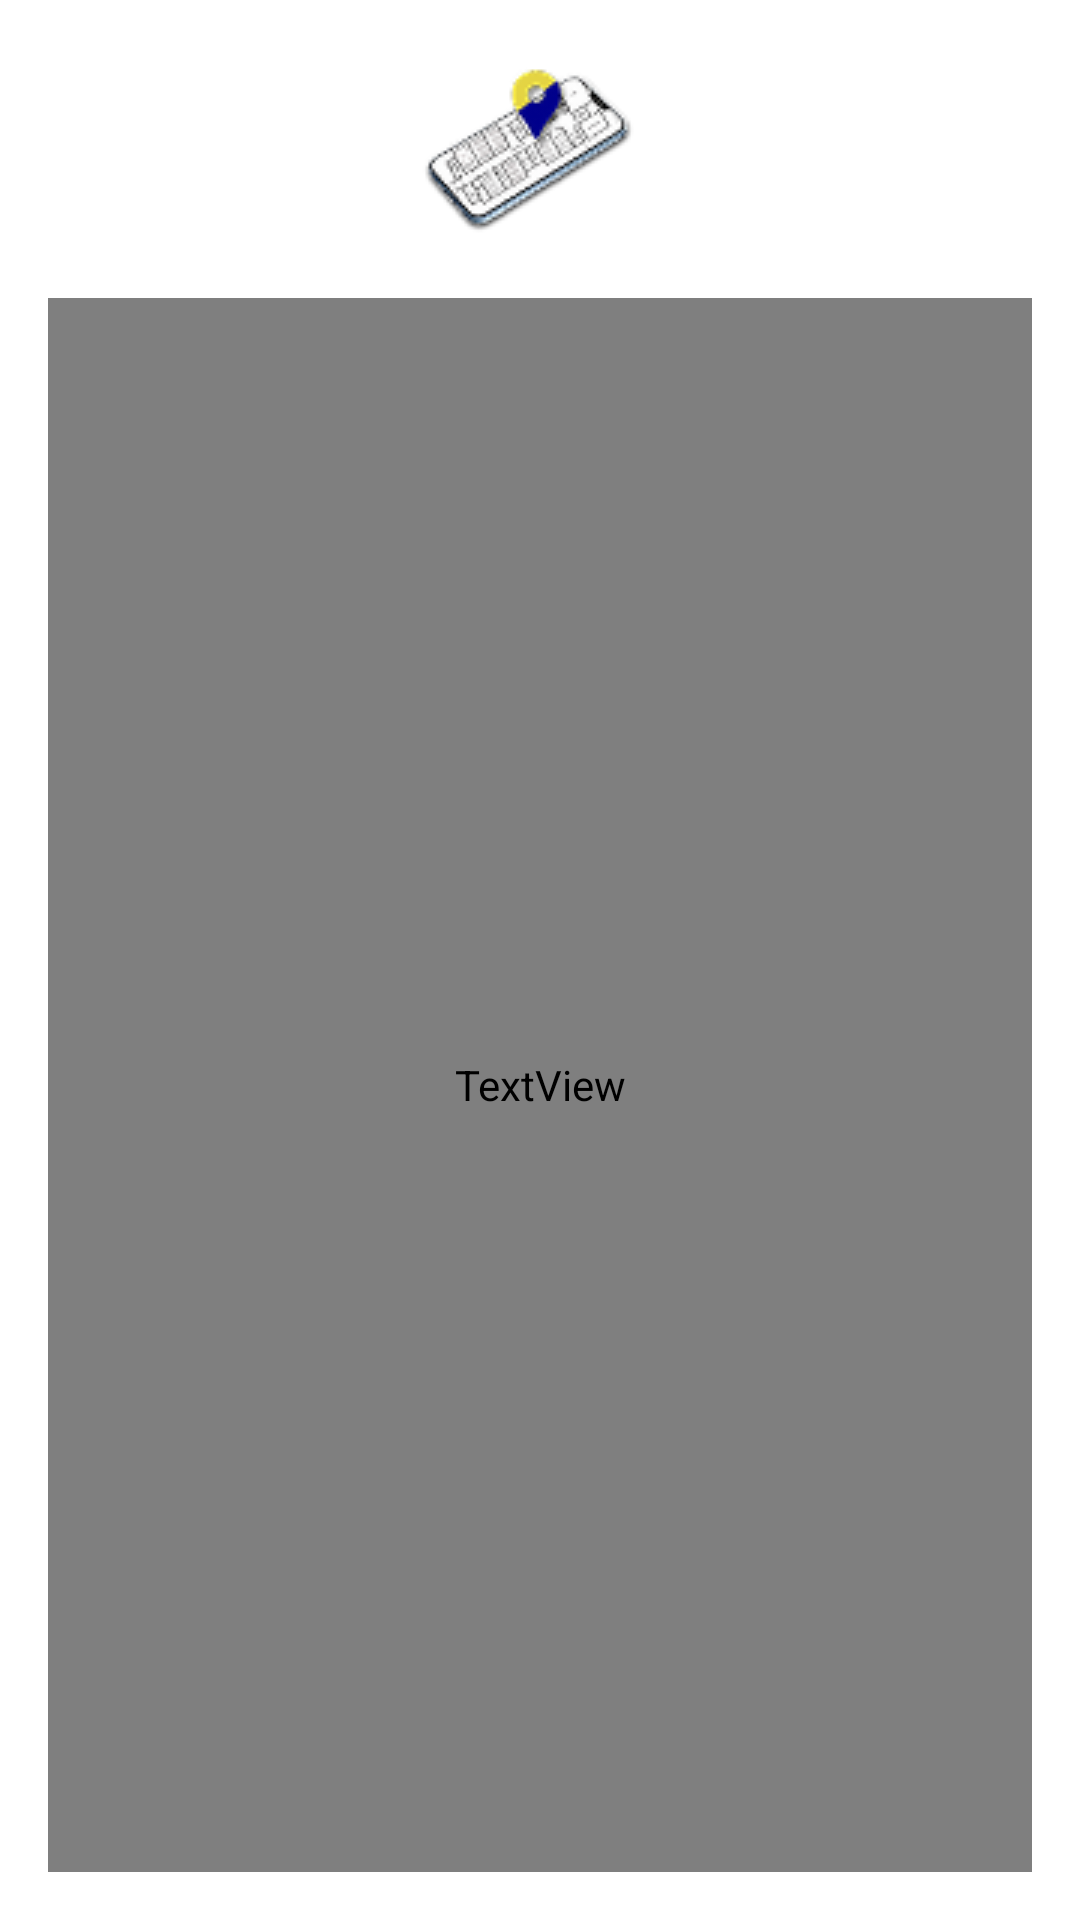

Point at icon controls on the screen. Image size 1080 × 1920, points as (x=x, y=y).
navigation: (x=528, y=149)
